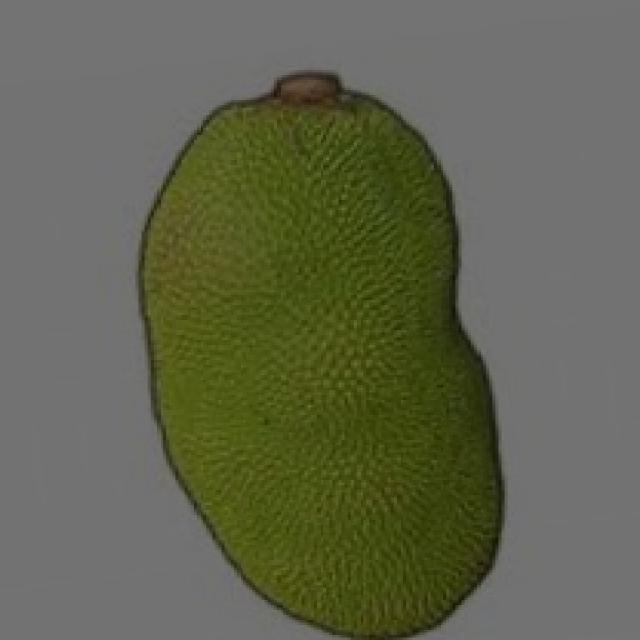Fruit: (101, 48, 517, 410), (138, 265, 538, 640)
